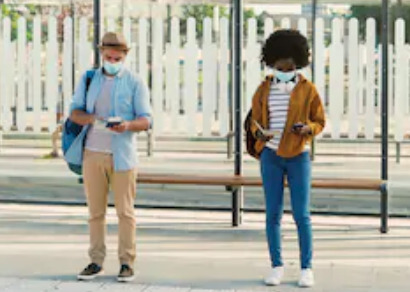Caution: (69, 27, 325, 289)
